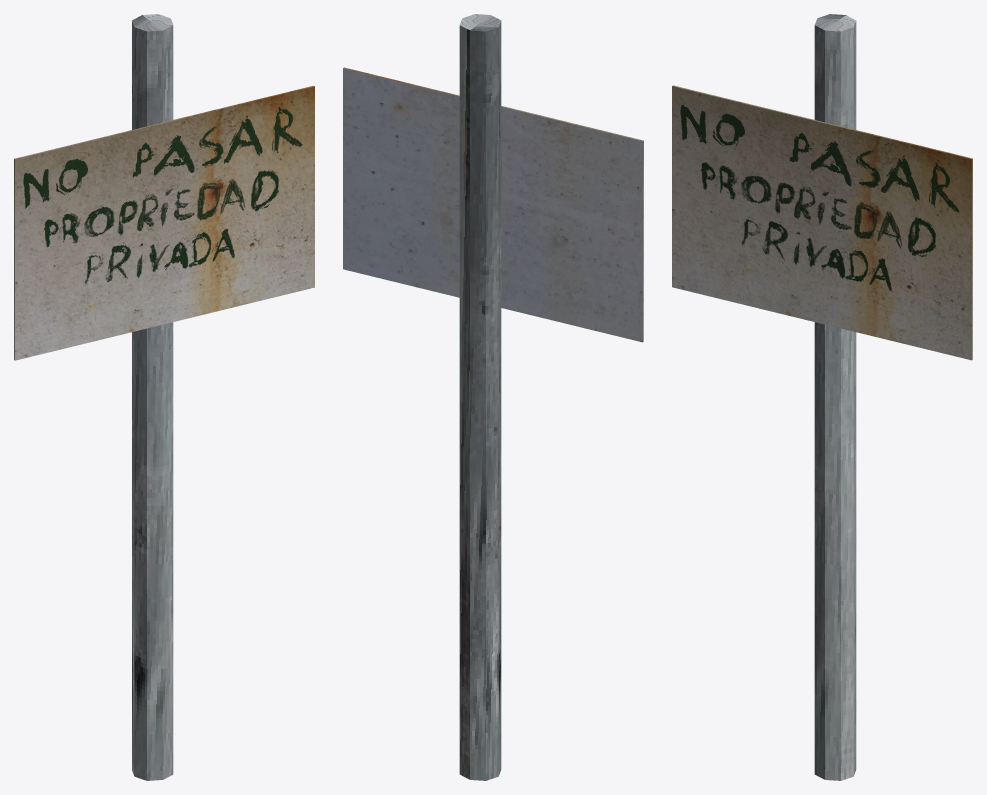
Rendered from NoPasar.glb.
3 renders of one model, left to right at view 1: azimuth 30°, elevation 25°; view 2: azimuth 150°, elevation 25°; view 3: azimuth 330°, elevation 25°, orthographic.
Visible parts, largest first — view 1: Cube.030, Cube.031; view 2: Cube.030, Cube.031; view 3: Cube.030, Cube.031.
Boxes of the visible parts, x1=… form: Cube.030: x1=14, y1=85, x2=314, y2=360; Cube.031: x1=132, y1=14, x2=173, y2=780; Cube.030: x1=343, y1=67, x2=643, y2=342; Cube.031: x1=459, y1=14, x2=501, y2=780; Cube.030: x1=672, y1=85, x2=972, y2=360; Cube.031: x1=814, y1=14, x2=856, y2=780.
Bounding box in the file's own units: 0.1858 × 0.4439 × 0.0252.
2 materials, 2 textured.
